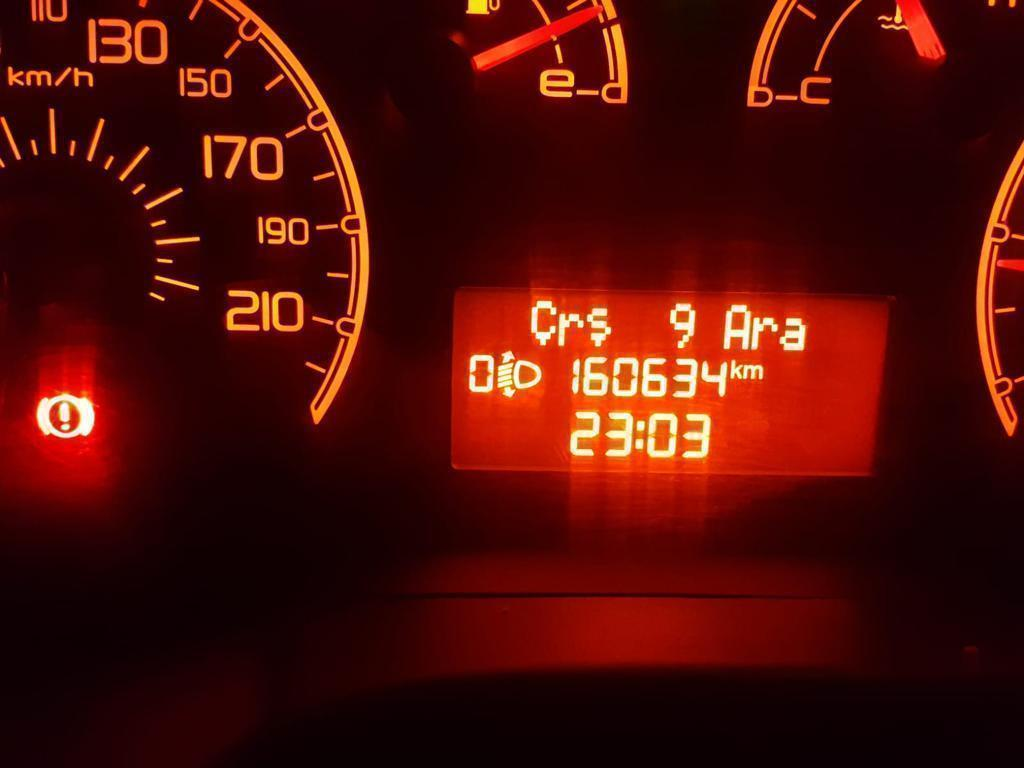0: (646, 410, 677, 459), (466, 351, 496, 395), (610, 355, 640, 398)
1: (568, 356, 580, 395)
2: (567, 409, 601, 458)
3: (680, 411, 712, 460), (602, 410, 634, 458), (670, 355, 698, 399)
4: (699, 358, 728, 398)
6: (640, 354, 668, 398), (583, 354, 609, 397)
9: (665, 301, 697, 350)
X: (721, 301, 751, 350), (527, 298, 556, 347), (584, 305, 612, 348), (778, 314, 808, 352), (556, 310, 584, 346), (751, 314, 778, 350), (634, 417, 646, 451), (743, 362, 765, 380), (729, 356, 743, 380)
odometer: (446, 287, 897, 481)
